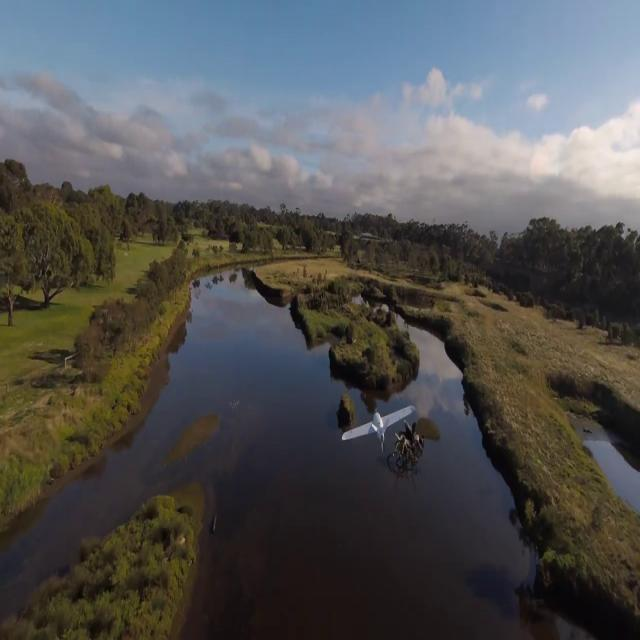iha: (376, 406, 380, 448)
